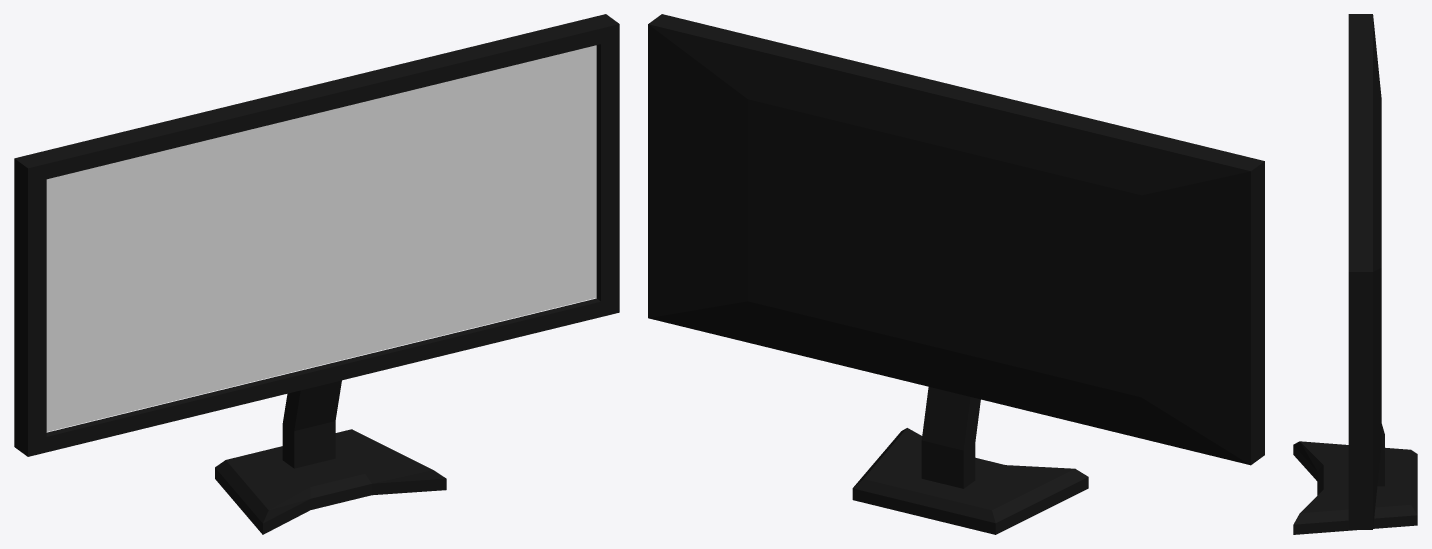
File: monitor.glb
3 renders of one model, left to right at view 1: azimuth 30°, elevation 25°; view 2: azimuth 150°, elevation 25°; view 3: azimuth 270°, elevation 25°, orthographic. The views are drawn at different scales.
Visible parts, largest first — view 1: monitor_colourA, monitor; view 2: monitor; view 3: monitor.
Boxes of the visible parts, x1=… form: monitor_colourA: x1=46, y1=45, x2=596, y2=431; monitor: x1=14, y1=14, x2=619, y2=534; monitor: x1=648, y1=14, x2=1264, y2=534; monitor: x1=1293, y1=14, x2=1417, y2=534.
Bounding box in the file's own units: 1.79 × 1.14 × 0.3646.
Materials: 2 (1 with a texture image).
